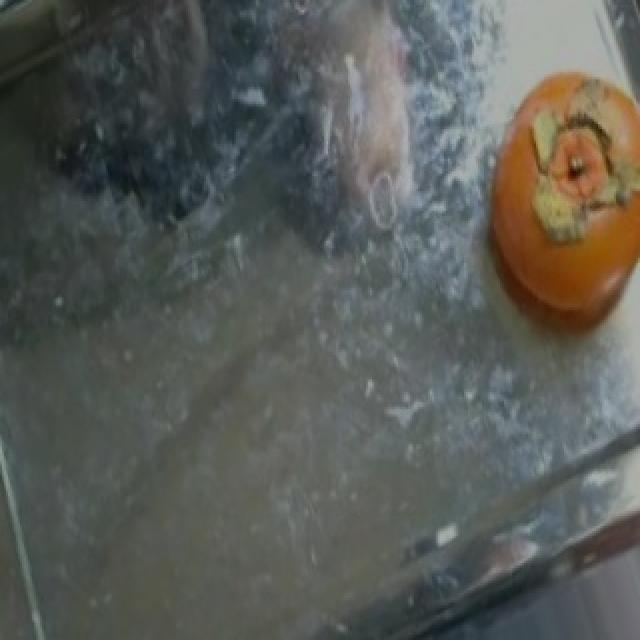Fruit: (462, 47, 640, 340)
